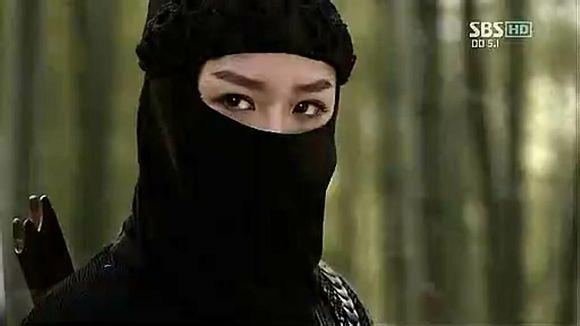OK: (196, 63, 337, 204)
